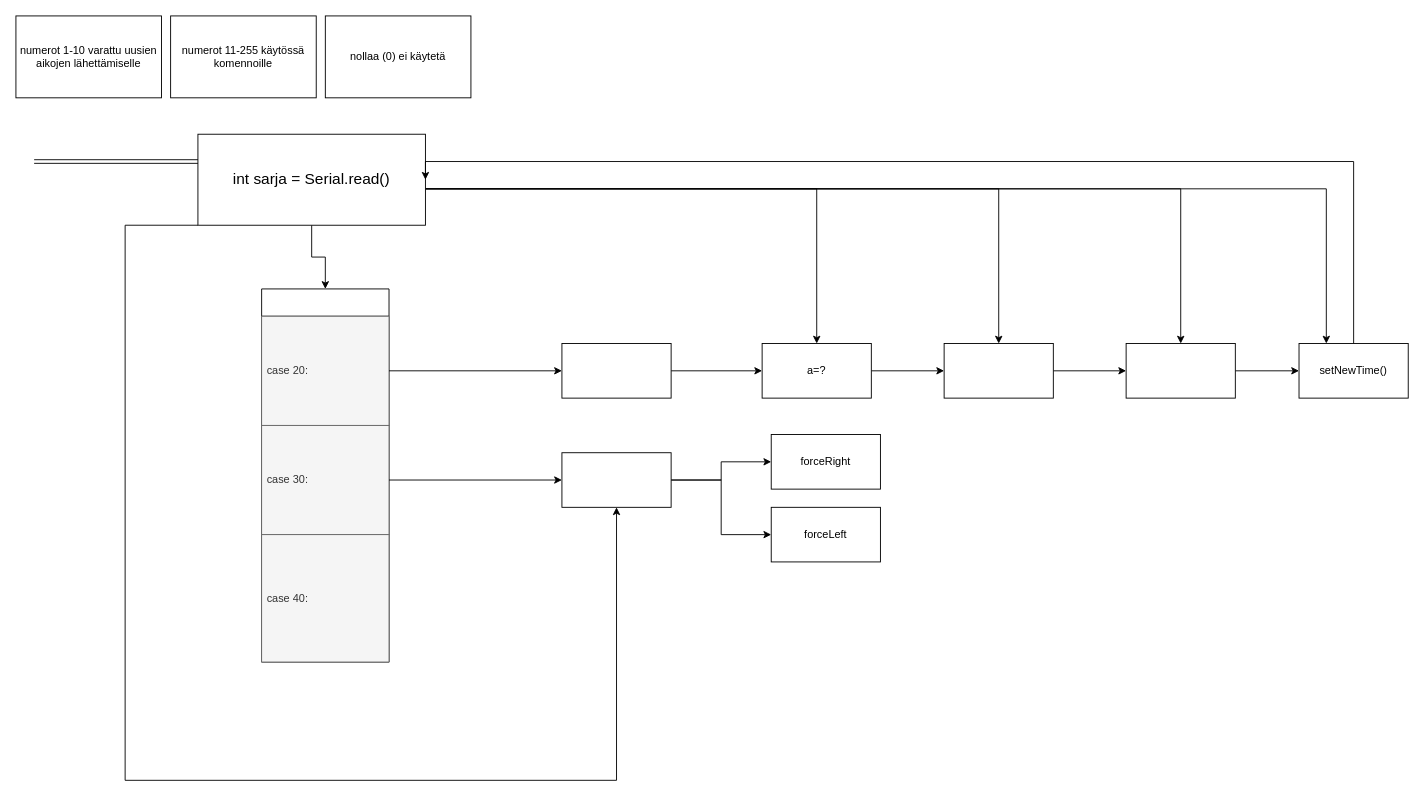
The diagram is 1424 pixels wide and 804 high, and some of its shapes have lost their labels. Each missing label, with the box of its shape:
allowForce: (561, 452, 671, 507)
b=?: (943, 343, 1053, 398)
c=?: (1125, 343, 1235, 398)
newTImeValue: (561, 343, 671, 398)
switch(sarja): (261, 288, 389, 662)
